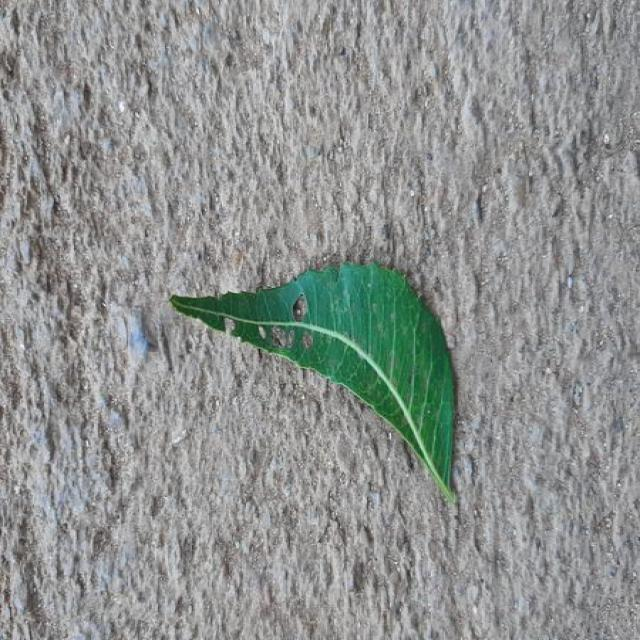neem: (170, 264, 453, 502)
